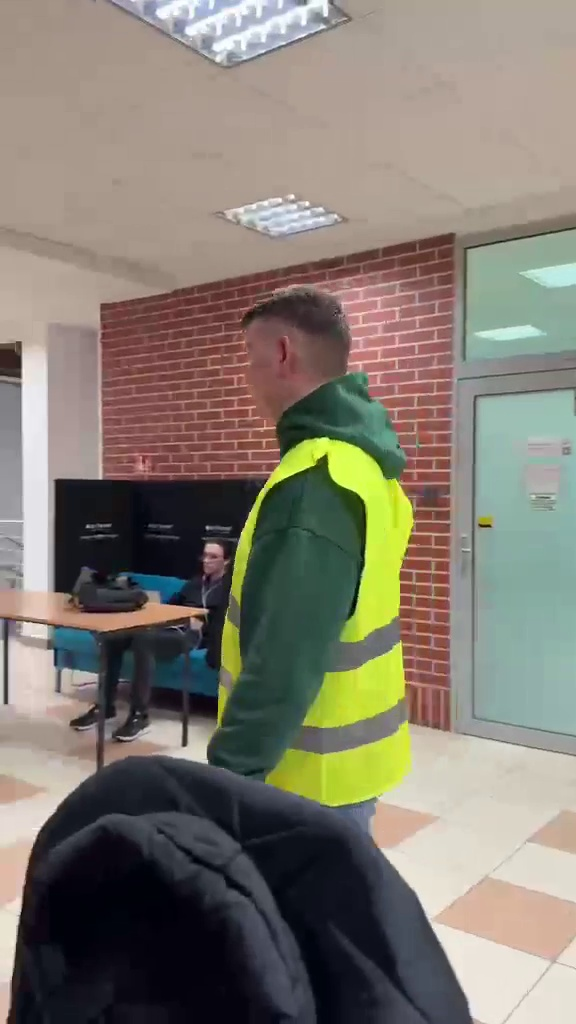no vest: (72, 523, 232, 741)
vest: (222, 270, 421, 820)
